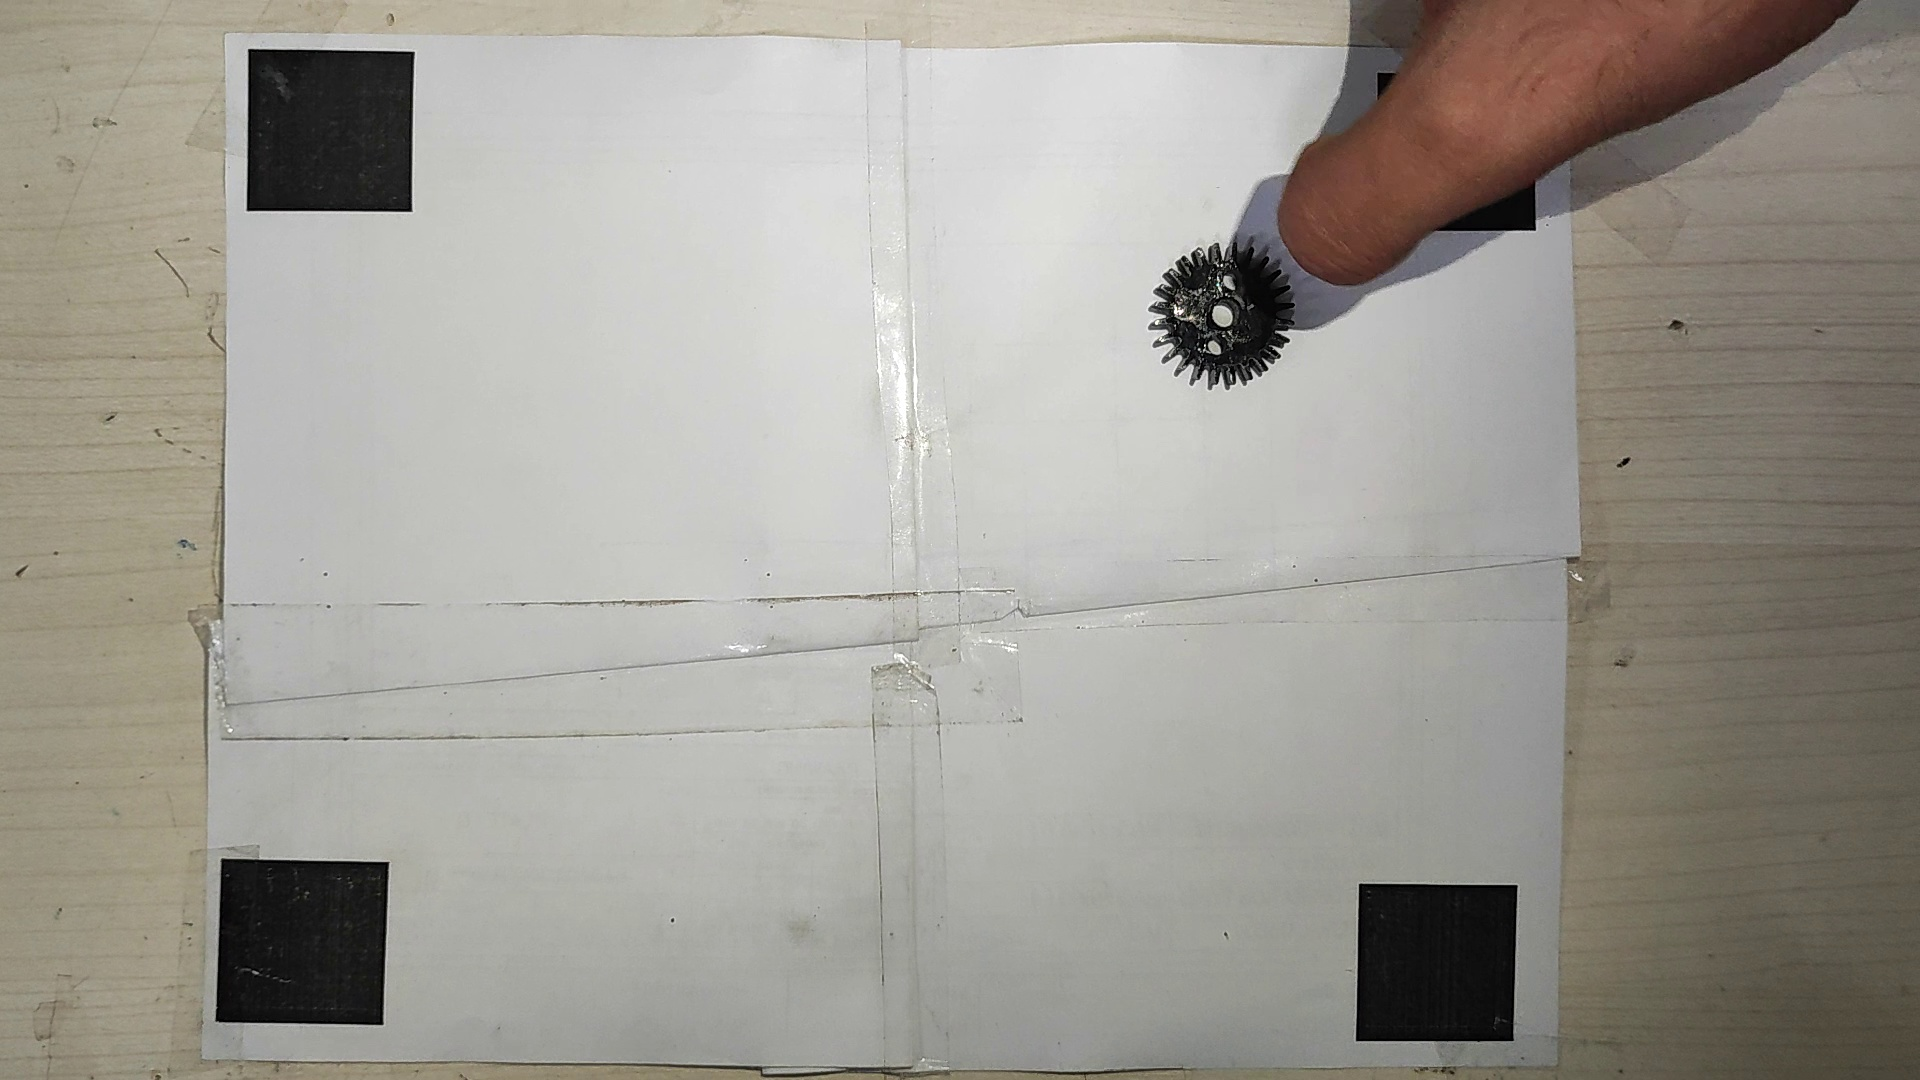Gear: (1141, 237, 1303, 386)
